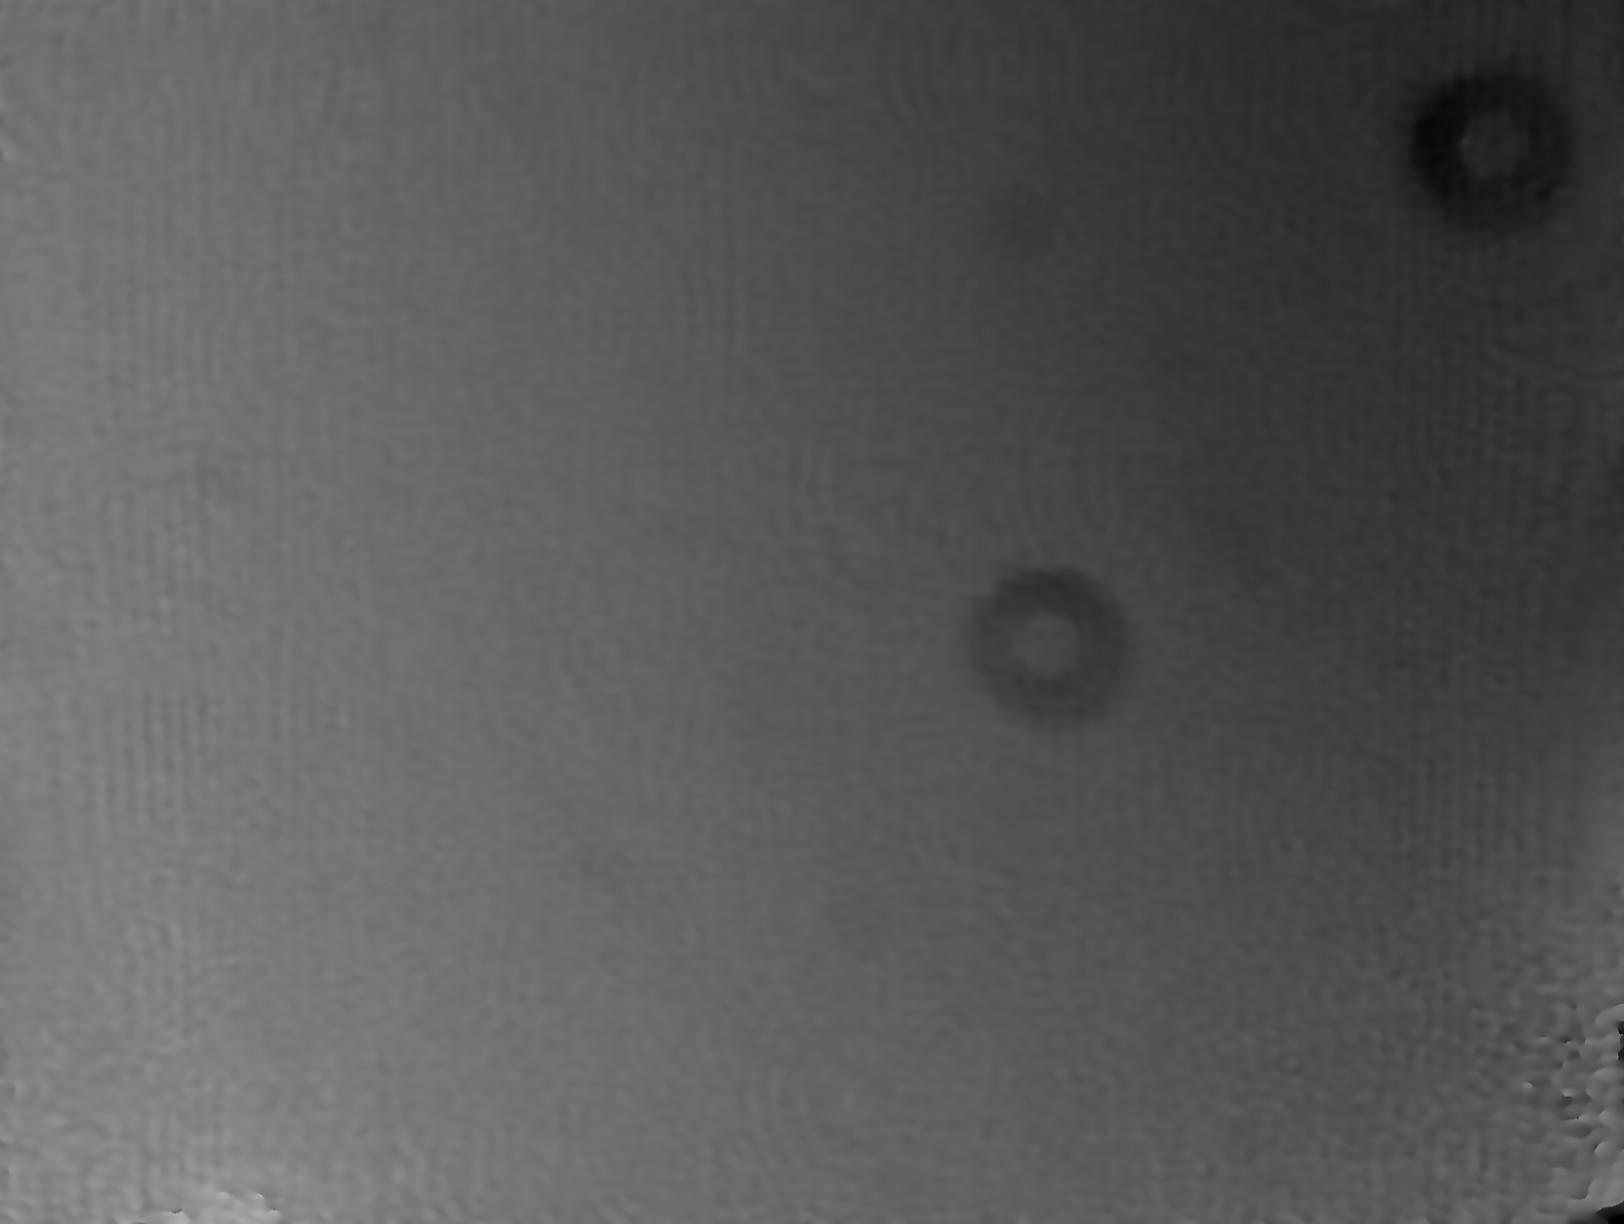cell: (1354, 22, 1615, 292), (937, 525, 1168, 764)
